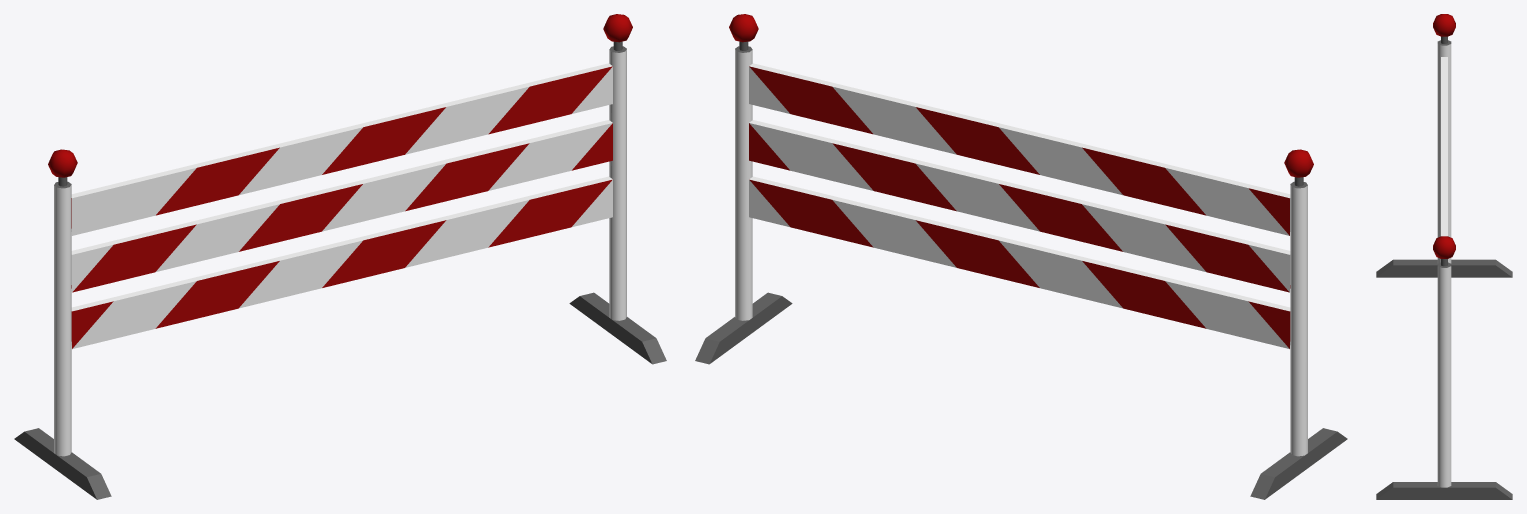
File: Barrier.fbx
The picture shows the model from 3 angles, left to right: view 1: azimuth 30°, elevation 25°; view 2: azimuth 150°, elevation 25°; view 3: azimuth 270°, elevation 25°; orthographic projection. The views are drawn at different scales.
Parts seen in each view (by area): view 1: Barrier; view 2: Barrier; view 3: Barrier.
Boxes of the visible parts, x1,y1,x2,y2 form: Barrier: (14, 14, 666, 499); Barrier: (695, 14, 1347, 499); Barrier: (1376, 14, 1512, 499).
Size of the model in its own units: 3.21 by 0.8 by 1.68.
